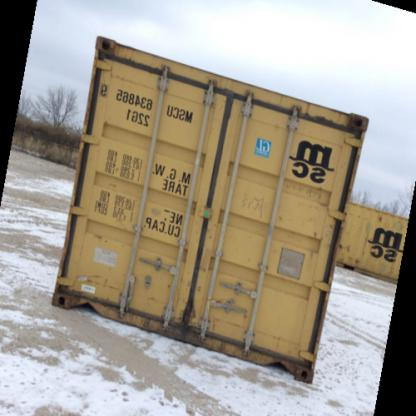Damage: (170, 276, 210, 338), (288, 113, 367, 141), (99, 34, 155, 72), (52, 286, 124, 304)
